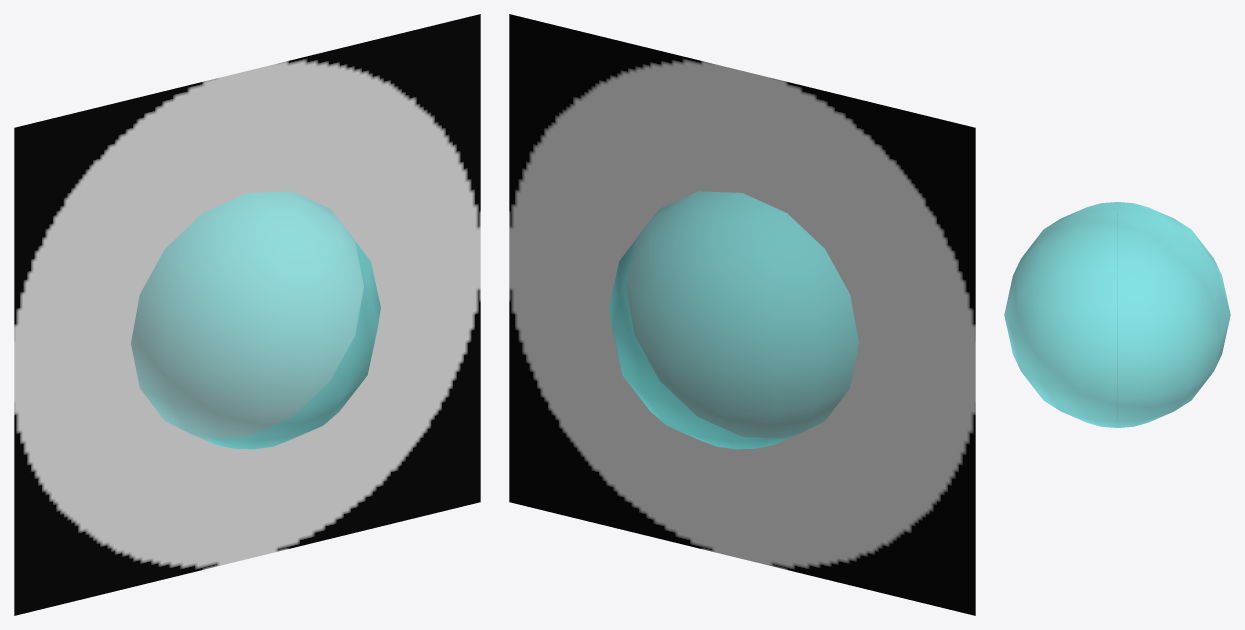
The model's file is EneSphere.FBX.
The picture shows the model from 3 angles, left to right: view 1: azimuth 30°, elevation 25°; view 2: azimuth 150°, elevation 25°; view 3: azimuth 270°, elevation 25°; orthographic projection. The views are drawn at different scales.
Parts seen in each view (by area): view 1: Glow, EneSphere; view 2: Glow, EneSphere; view 3: EneSphere.
Boxes of the visible parts, left/top/right/bottom form: Glow: left=14, top=14, right=480, bottom=615; EneSphere: left=131, top=191, right=380, bottom=449; Glow: left=509, top=14, right=975, bottom=615; EneSphere: left=609, top=191, right=858, bottom=449; EneSphere: left=1004, top=202, right=1230, bottom=427.
Bounding box in the file's own units: 100 × 100 × 50.
2 materials, 1 textured.
